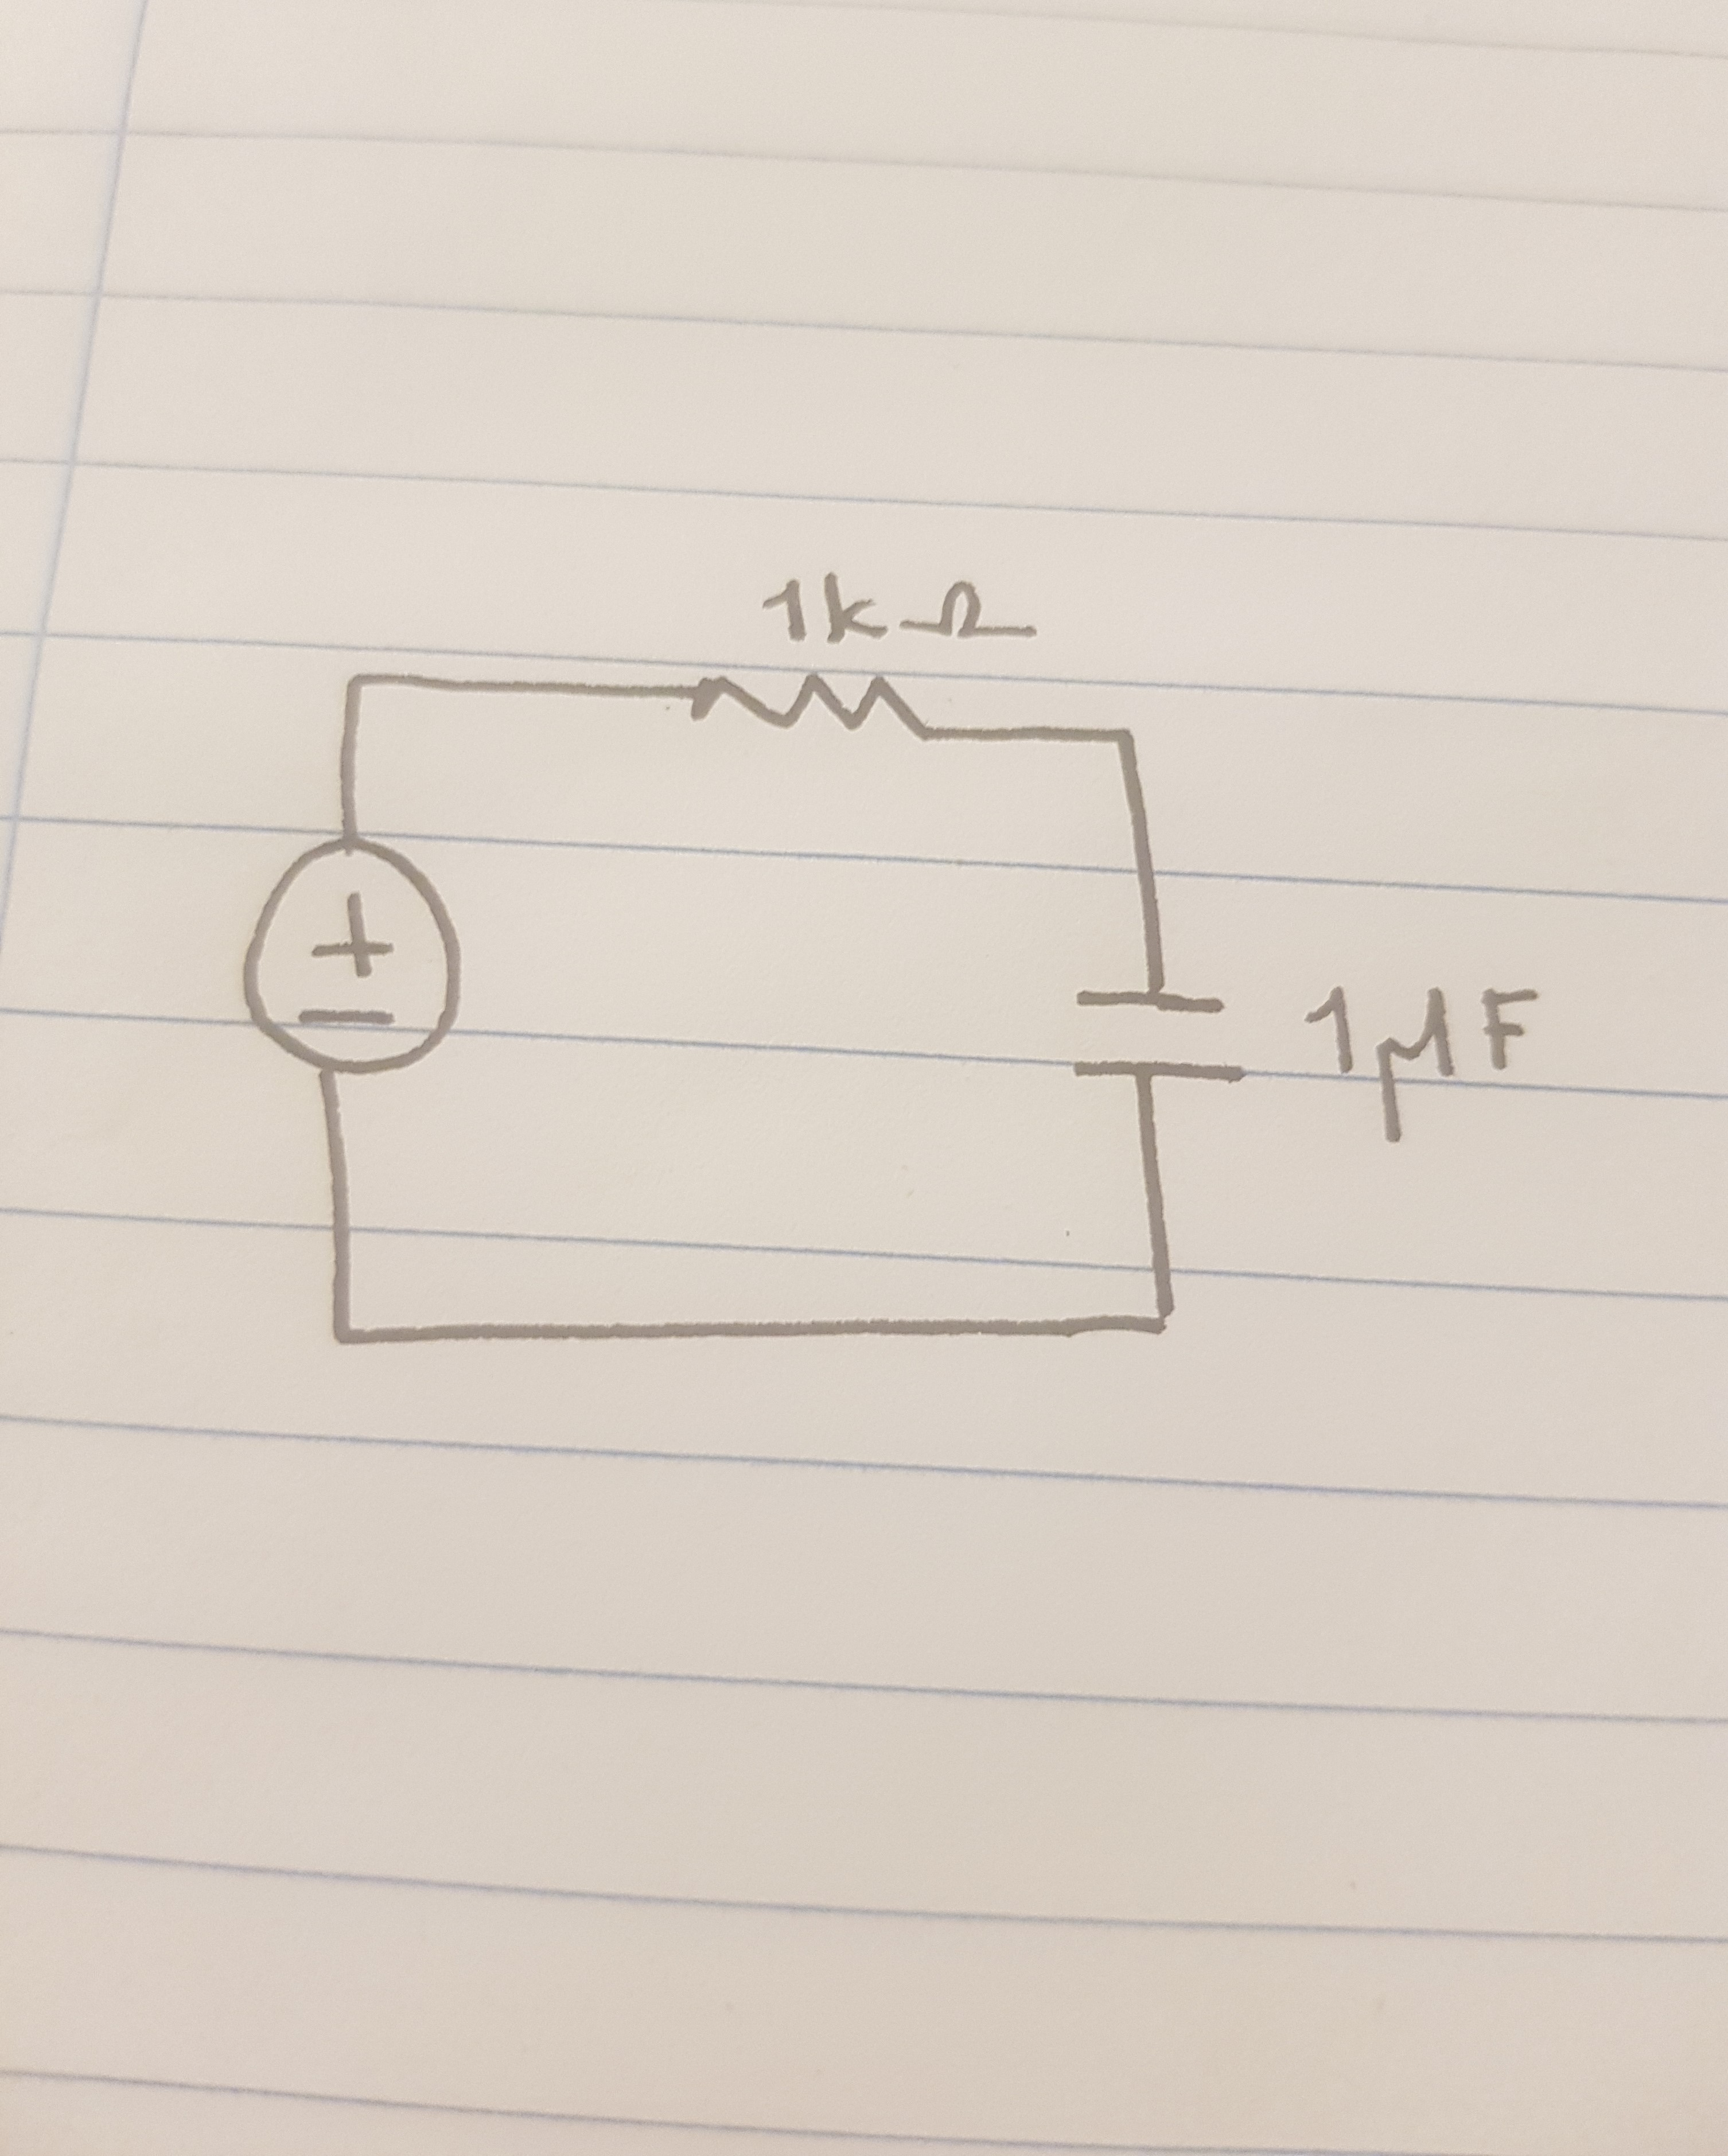capacitor.unpolarized: (1049, 964, 1271, 1097)
junction: (1114, 1275, 1204, 1363), (300, 1305, 395, 1363), (1083, 705, 1153, 776), (326, 658, 404, 712)
resistor: (672, 643, 935, 772)
text: (1289, 964, 1578, 1151), (742, 573, 1060, 661)
voltage.dc: (229, 827, 488, 1089)
